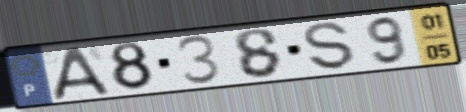3: (175, 33, 223, 86)
8: (231, 27, 285, 79), (107, 40, 157, 93)
9: (363, 14, 410, 66)
A: (51, 44, 114, 103)
S: (301, 21, 358, 72)
